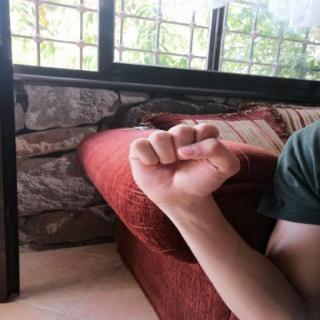SAD: (118, 116, 247, 211)
